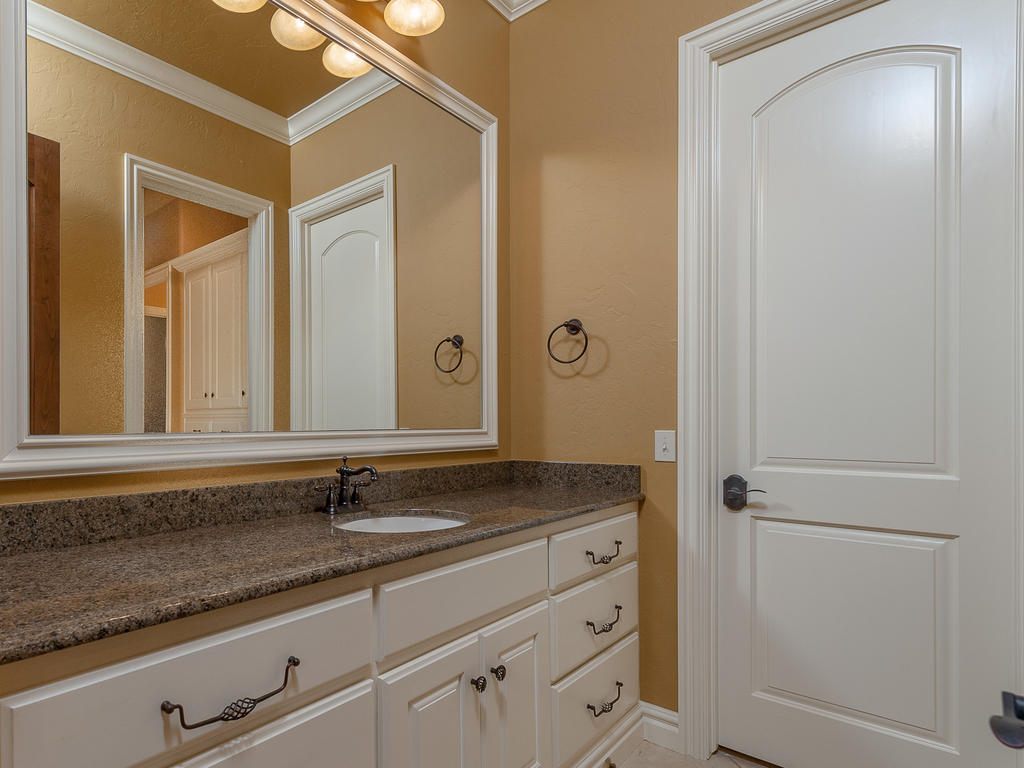tap: (333, 463, 380, 513)
